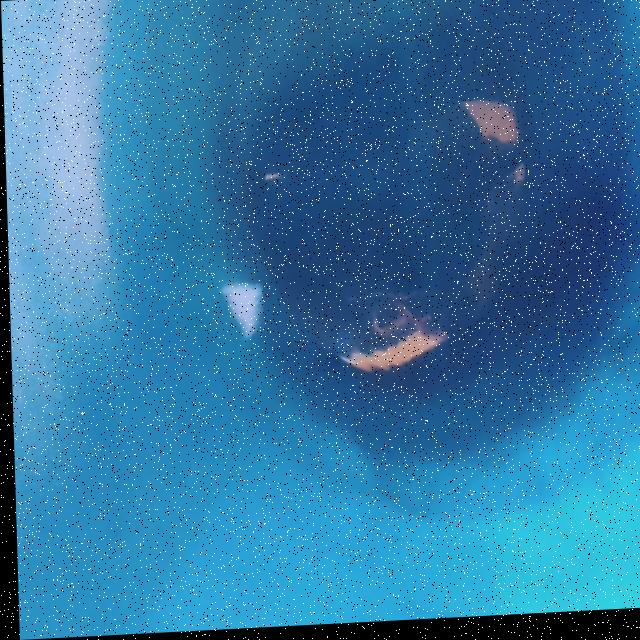thermocoal: (191, 261, 261, 352)
